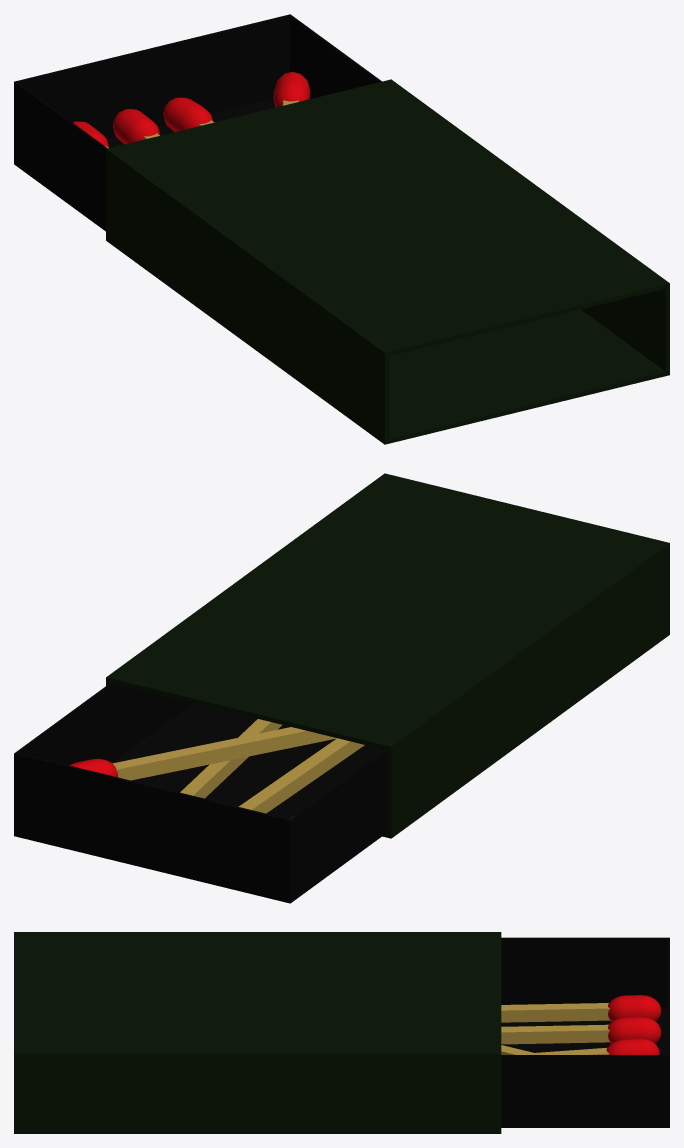
File: Matchbox-einfarbig.FBX
3 renders of one model, top to bottom at view 1: azimuth 30°, elevation 25°; view 2: azimuth 150°, elevation 25°; view 3: azimuth 270°, elevation 25°, orthographic. The views are drawn at different scales.
Parts seen in each view (by area): view 1: Box001, Box003; view 2: Box001, Box003; view 3: Box001, Box003.
Part boxes in pixels (x1,y1,x2,y2): Box001: (106,79,669,444); Box003: (14,14,381,231); Box001: (106,473,669,838); Box003: (14,683,386,903); Box001: (14,932,501,1133); Box003: (501,937,669,1127).
Size of the model in its own units: 2.56 by 0.7874 by 5.83.
